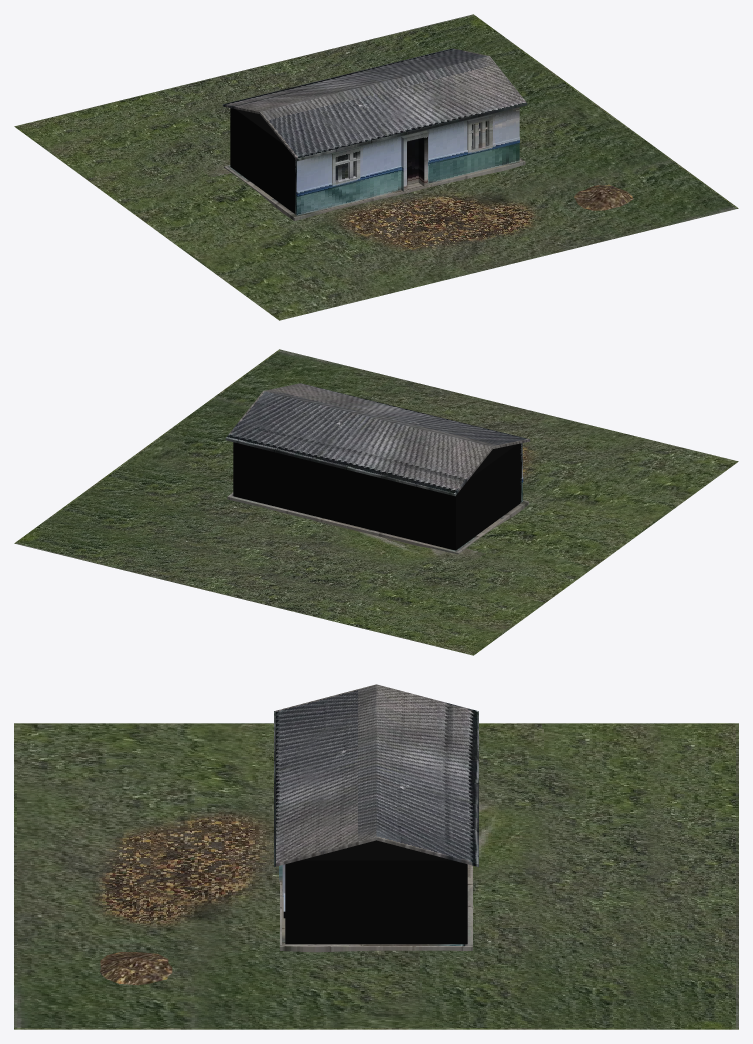
Rendered from khata.glb.
The picture shows the model from 3 angles, top to bottom: view 1: azimuth 30°, elevation 25°; view 2: azimuth 150°, elevation 25°; view 3: azimuth 270°, elevation 25°; orthographic projection. The views are drawn at different scales.
Parts seen in each view (by area): view 1: Plane, Cube.001, Cube, Cube.002, Plane.001; view 2: Plane, Cube.001, Cube, Cube.002; view 3: Plane, Cube.001, Cube, Cube.002, Plane.001.
Boxes of the visible parts, box(x1,y1,x2,y2) form: Plane: box(14, 14, 738, 320); Cube.001: box(222, 48, 527, 161); Cube: box(230, 107, 519, 215); Cube.002: box(224, 157, 525, 220); Plane.001: box(574, 184, 633, 210); Plane: box(14, 349, 738, 655); Cube.001: box(225, 383, 530, 496); Cube: box(233, 442, 523, 550); Cube.002: box(227, 492, 528, 554); Plane: box(14, 723, 738, 1029); Cube.001: box(274, 684, 478, 867); Cube: box(279, 840, 467, 944); Cube.002: box(280, 864, 472, 952); Plane.001: box(100, 952, 172, 985).
Size of the model in its own units: 7.94 by 1.4 by 7.94.
Materials: 5 (5 with a texture image).
